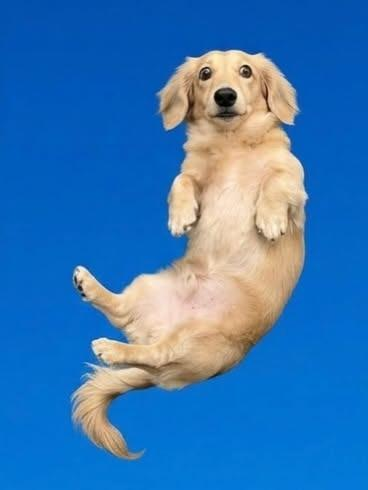adult_dog: (69, 47, 310, 464)
